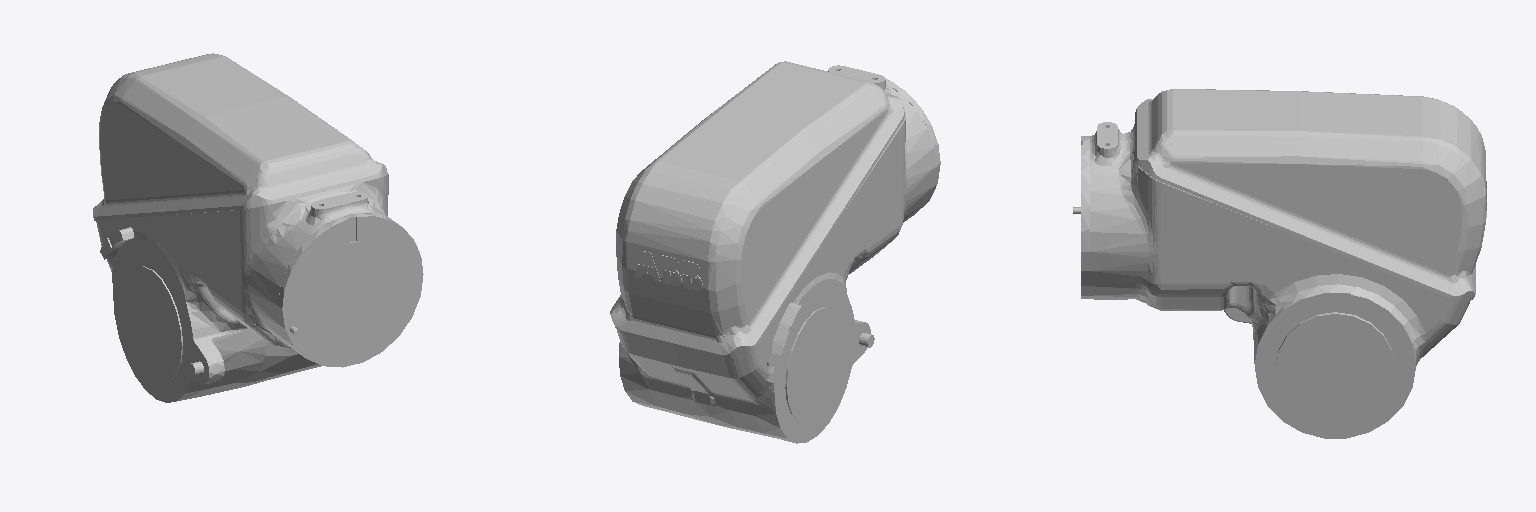
The model's file is irb120joint3.obj.
The picture shows the model from 3 angles: view 1: azimuth 30°, elevation 25°; view 2: azimuth 150°, elevation 25°; view 3: azimuth 270°, elevation 25°; orthographic projection.
Parts seen in each view (by area): view 1: irb120joint3; view 2: irb120joint3; view 3: irb120joint3.
Part boxes in pixels (left/top/right/bottom): irb120joint3: left=93, top=53, right=423, bottom=402; irb120joint3: left=610, top=61, right=940, bottom=443; irb120joint3: left=1073, top=89, right=1486, bottom=438.
Size of the model in its own units: 5.78 by 9.4 by 12.2.